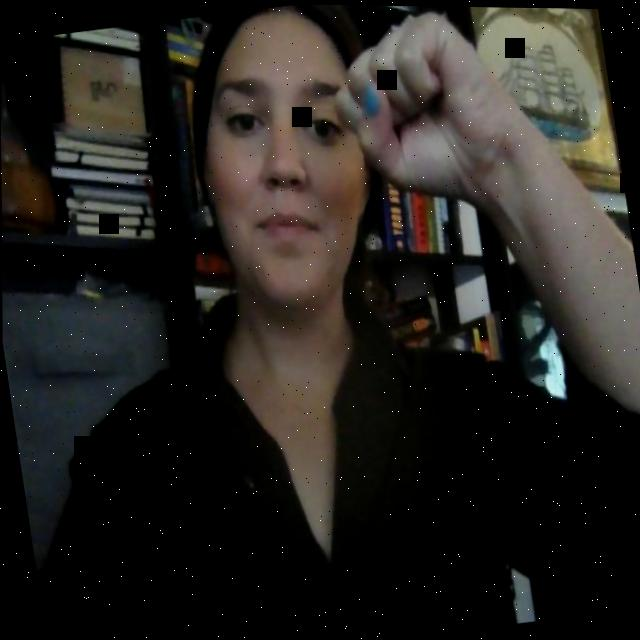Rock: (295, 3, 555, 259)
